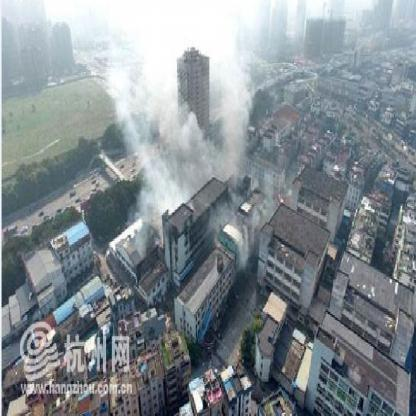smoke: (157, 94, 242, 187), (130, 158, 180, 233), (108, 43, 138, 160), (219, 23, 252, 108)
